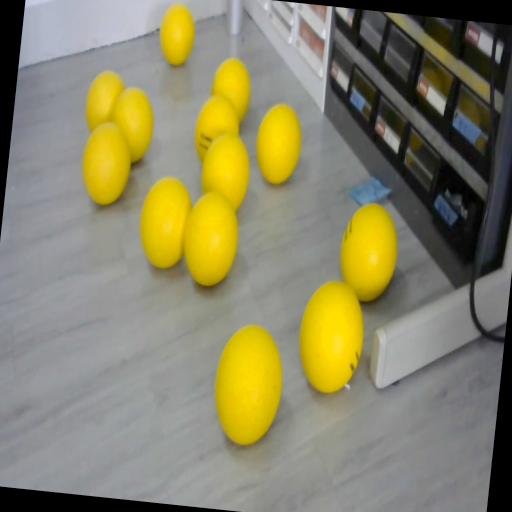FUEL: (208, 320, 289, 447), (293, 276, 369, 396), (336, 200, 402, 304), (134, 172, 196, 272), (78, 120, 136, 208), (197, 130, 254, 214), (252, 101, 306, 186), (208, 56, 255, 125), (82, 68, 128, 136), (157, 0, 198, 68)
